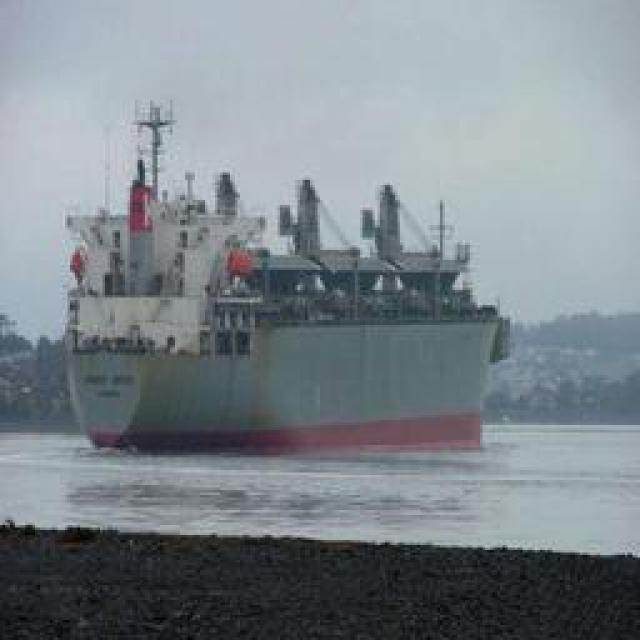Ship: (58, 116, 513, 439)
